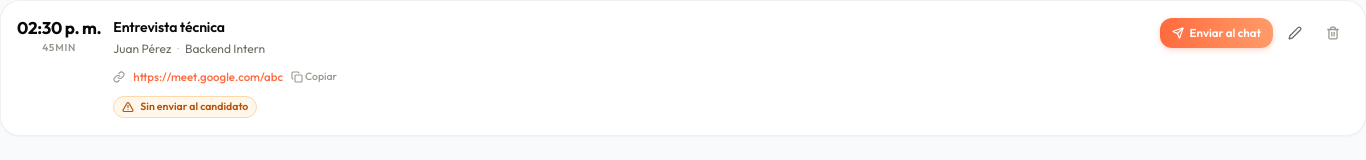
Test: InterviewListItem › meetingLink › muestra '¡Copiado!' tras click en Copiar
Click the button "Copiar" at {"x": 314, "y": 77}, box [291,69,337,85]
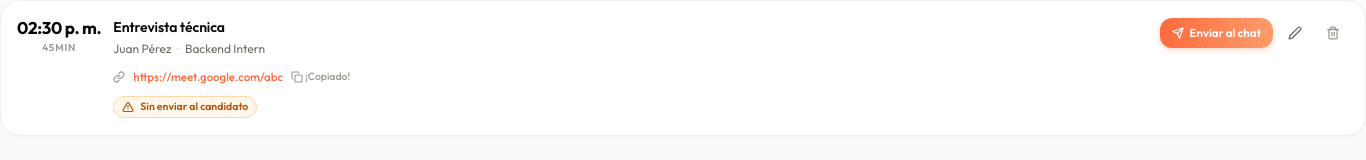
Expected: the button "¡Copiado!" is shown, [291,69,350,85]
